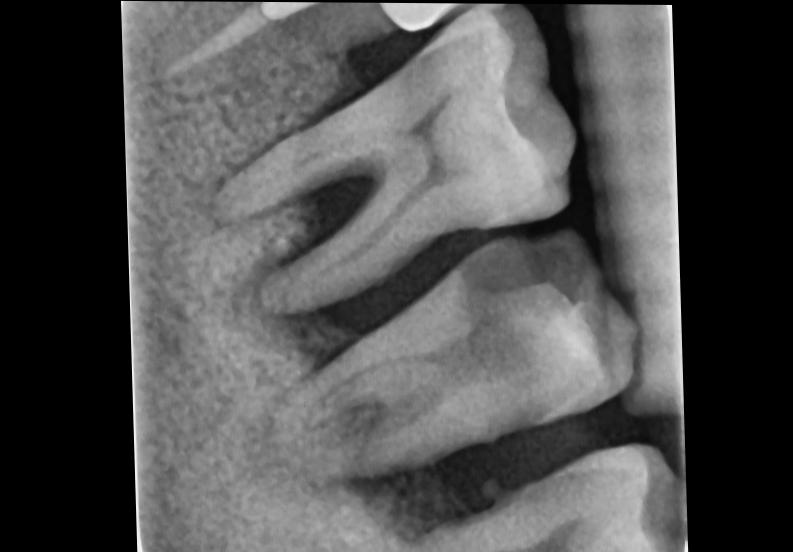Individual Tooth: (209, 3, 573, 318), (292, 228, 633, 479), (152, 1, 499, 99), (411, 438, 682, 552)
